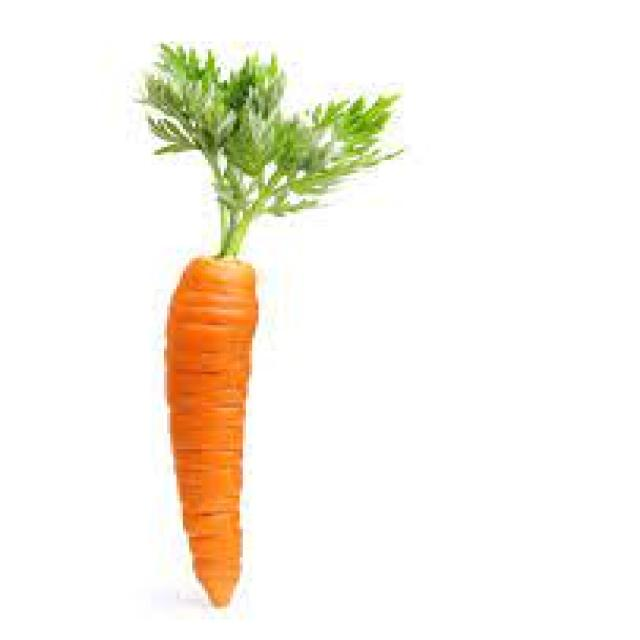carrot: (161, 253, 258, 609)
